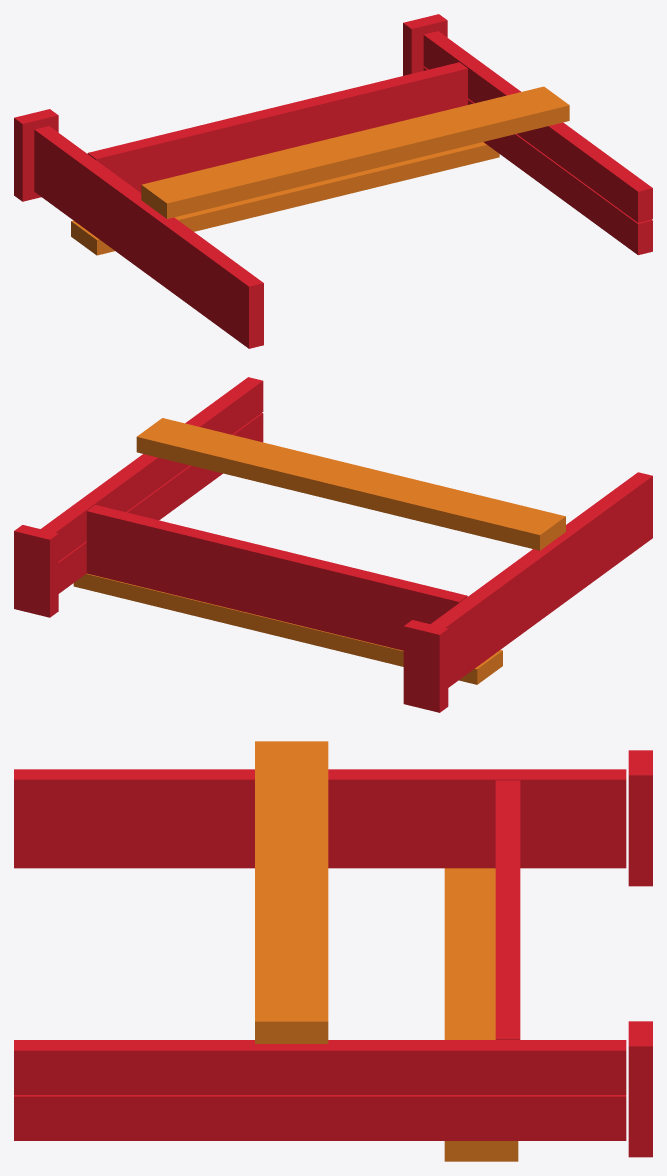
File: tinker.obj
3 renders of one model, top to bottom at view 1: azimuth 30°, elevation 25°; view 2: azimuth 150°, elevation 25°; view 3: azimuth 270°, elevation 25°, orthographic. The views are drawn at different scales.
Visible parts, largest first — view 1: obj_6, obj_1, obj_7, obj_3, obj_2, obj_5, obj_4, obj_9, obj_0, obj_8; view 2: obj_6, obj_1, obj_0, obj_7, obj_3, obj_2, obj_5, obj_9, obj_8, obj_4; view 3: obj_3, obj_7, obj_4, obj_2, obj_6, obj_5, obj_1, obj_8, obj_9.
Boxes of the visible parts, bbox=[...] form: obj_6: bbox=[141, 86, 569, 218]; obj_1: bbox=[87, 62, 467, 182]; obj_7: bbox=[34, 126, 263, 317]; obj_3: bbox=[423, 31, 652, 222]; obj_2: bbox=[34, 161, 263, 348]; obj_5: bbox=[71, 142, 499, 255]; obj_4: bbox=[423, 67, 652, 255]; obj_9: bbox=[14, 109, 58, 201]; obj_0: bbox=[127, 99, 467, 192]; obj_8: bbox=[403, 14, 447, 75]; obj_6: bbox=[136, 418, 565, 550]; obj_1: bbox=[86, 505, 467, 623]; obj_0: bbox=[86, 542, 409, 650]; obj_7: bbox=[430, 472, 652, 656]; obj_3: bbox=[41, 377, 263, 560]; obj_2: bbox=[448, 507, 652, 687]; obj_5: bbox=[73, 573, 502, 684]; obj_9: bbox=[403, 620, 448, 712]; obj_8: bbox=[14, 525, 58, 617]; obj_4: bbox=[58, 413, 263, 593]; obj_3: bbox=[14, 1040, 626, 1094]; obj_7: bbox=[14, 769, 626, 823]; obj_4: bbox=[14, 1095, 626, 1140]; obj_2: bbox=[14, 824, 626, 868]; obj_6: bbox=[255, 741, 328, 1043]; obj_5: bbox=[444, 868, 518, 1161]; obj_1: bbox=[495, 780, 520, 1039]; obj_8: bbox=[628, 1021, 652, 1157]; obj_9: bbox=[628, 750, 652, 886].
Bounding box in the file's own units: 343 × 77 × 313.
